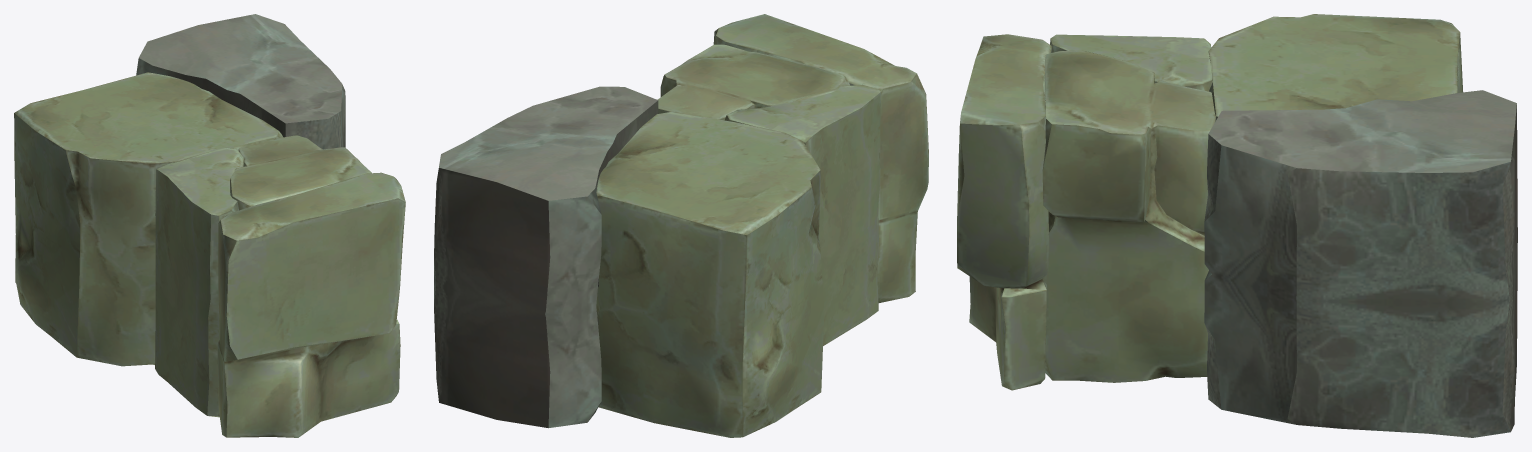
The model's file is Ruins_Wall_DMG_Edge_Left_A.fbx.
3 renders of one model, left to right at view 1: azimuth 30°, elevation 25°; view 2: azimuth 150°, elevation 25°; view 3: azimuth 270°, elevation 25°, orthographic. The views are drawn at different scales.
Visible parts, largest first — view 1: Ruins_Wall_DMG_Edge_Left_A; view 2: Ruins_Wall_DMG_Edge_Left_A; view 3: Ruins_Wall_DMG_Edge_Left_A.
Part boxes in pixels (x1,y1,x2,y2): Ruins_Wall_DMG_Edge_Left_A: [14, 14, 405, 437]; Ruins_Wall_DMG_Edge_Left_A: [434, 14, 928, 437]; Ruins_Wall_DMG_Edge_Left_A: [957, 14, 1517, 437].
Size of the model in its own units: 384 by 287 by 529.
